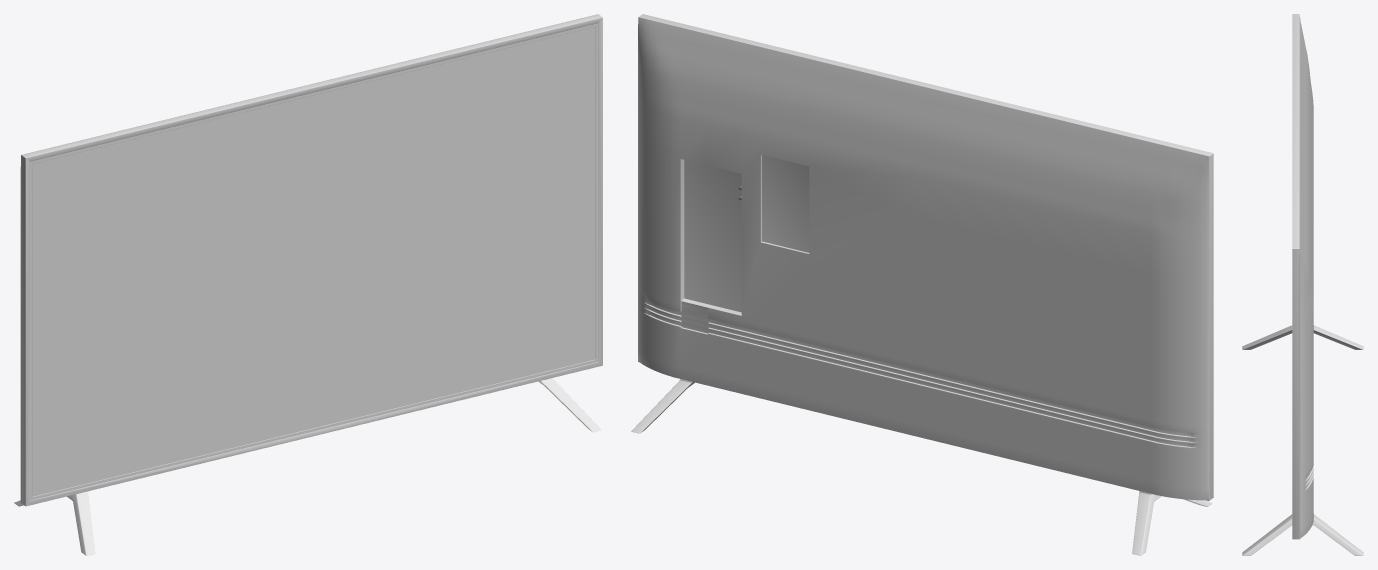
3 views of the same model, side by side, from view 1: azimuth 30°, elevation 25°; view 2: azimuth 150°, elevation 25°; view 3: azimuth 270°, elevation 25° (orthographic). The views are drawn at different scales.
Parts seen in each view (by area): view 1: Screen, Frame_01, Frame_02, Base, Box; view 2: Box, Frame_01, Base; view 3: Box, Frame_01, Base.
Boxes of the visible parts, x1,y1,x2,y2 form: Screen: (33,27,595,496); Frame_01: (21,14,602,506); Frame_02: (30,23,598,500); Base: (14,378,601,555); Box: (20,14,598,503); Box: (638,17,1209,500); Frame_01: (639,14,1213,500); Base: (631,379,1212,555); Box: (1299,14,1313,539); Frame_01: (1292,14,1298,539); Base: (1242,325,1363,555).
Size of the model in its own units: 156 by 98.81 by 33.95.
